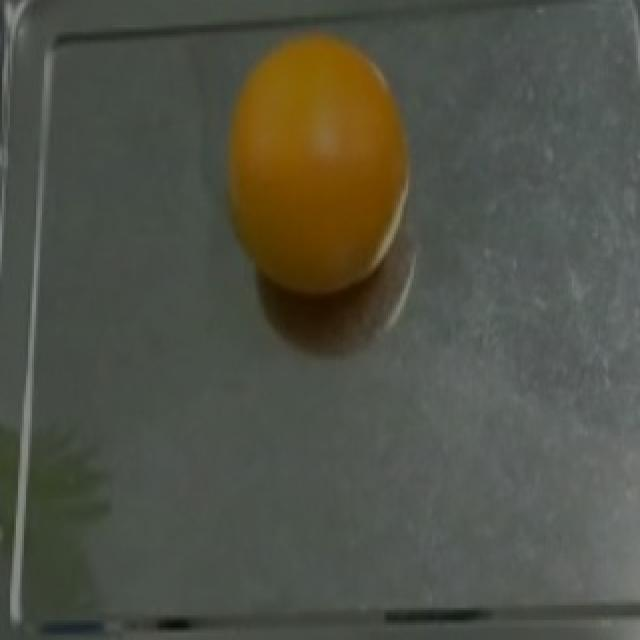Fruit: (212, 20, 436, 320)
